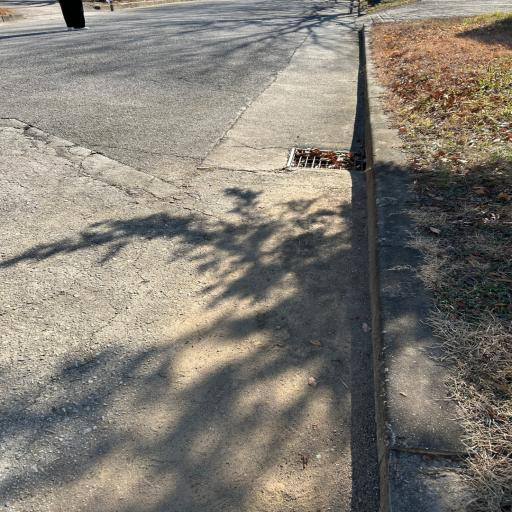debris: (309, 148, 346, 169), (345, 153, 352, 157)
drain: (290, 146, 366, 172)
